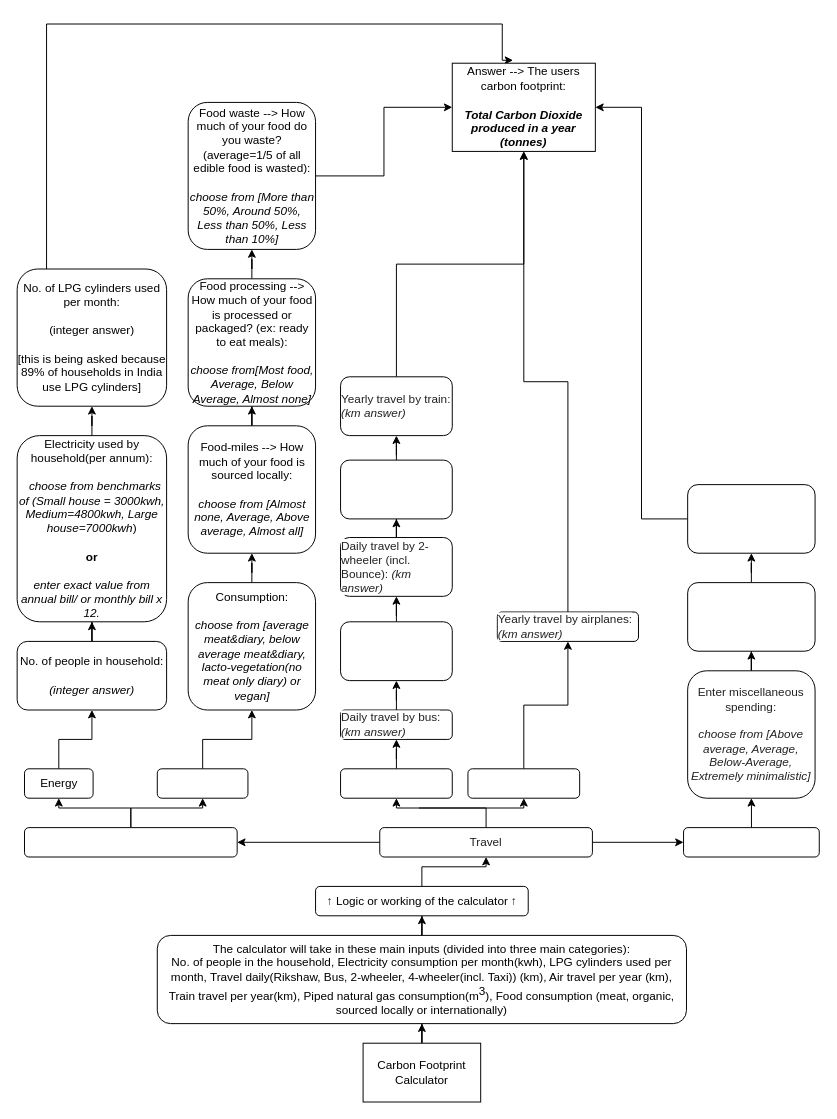
This 837x1119 diagram has some shape labels left out. The centre of each missing label's shape, as x and y in pixels:
"Air" belongs at pixel 523 783.
"Daily travel by 4-wheeler (incl.taxi): (km answer)" belongs at pixel 396 651.
"Daily travel by rickshaw (incl. Bounce): (km answer)" belongs at pixel 396 489.
"Do you recycle all plastic you dispose? Yes / No" belongs at pixel 751 518.
"Do you recycle glass, paper and metal? Yes / No" belongs at pixel 751 616.
"Food" belongs at pixel 202 783.
"Household" belongs at pixel 130 842.
"Land" belongs at pixel 396 783.
"Waste Managament" belongs at pixel 751 842.
